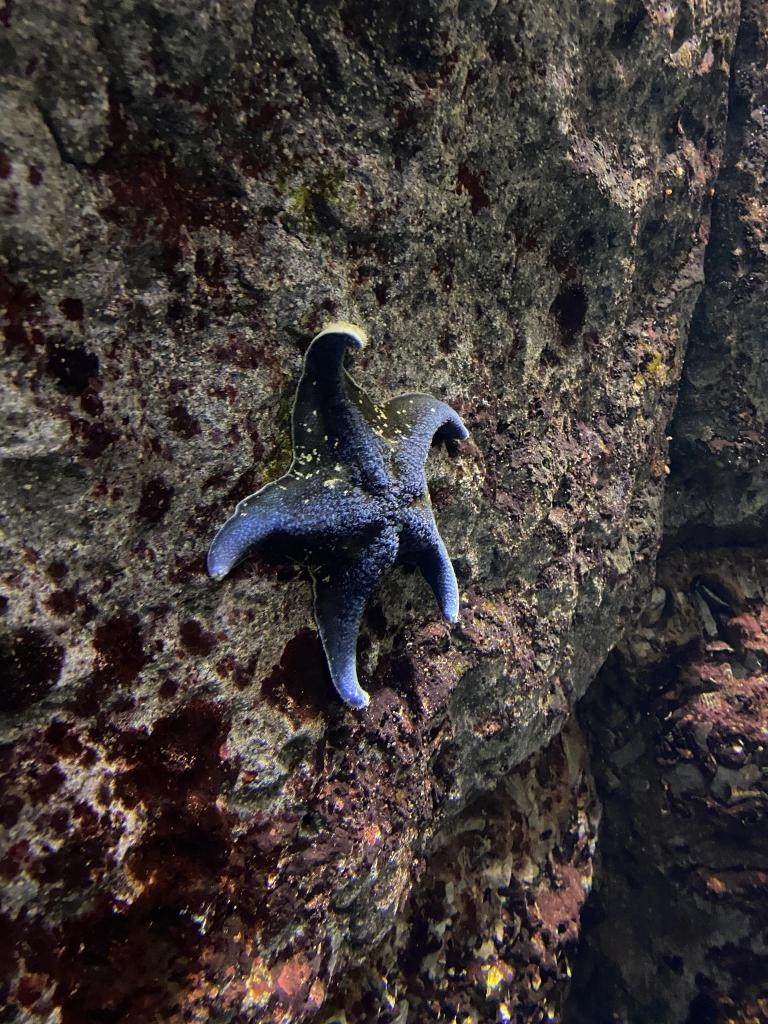starfish: (208, 323, 470, 709)
